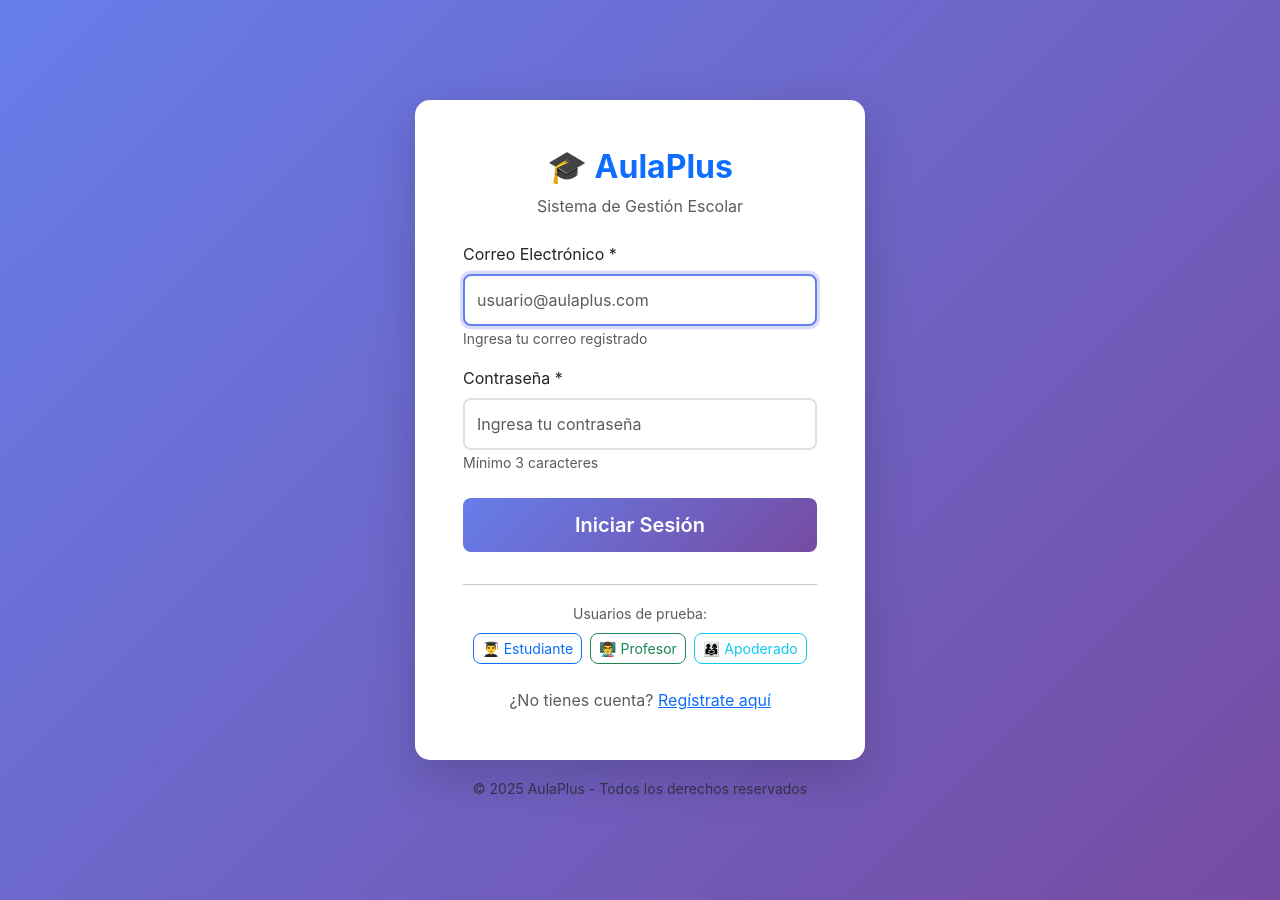
Test: Login Component - Pruebas Unitarias › valida email inválido y muestra error
Type "correo-invalido" into the field named "Correo Electrónico" at (640, 300), box [463,274,817,326]
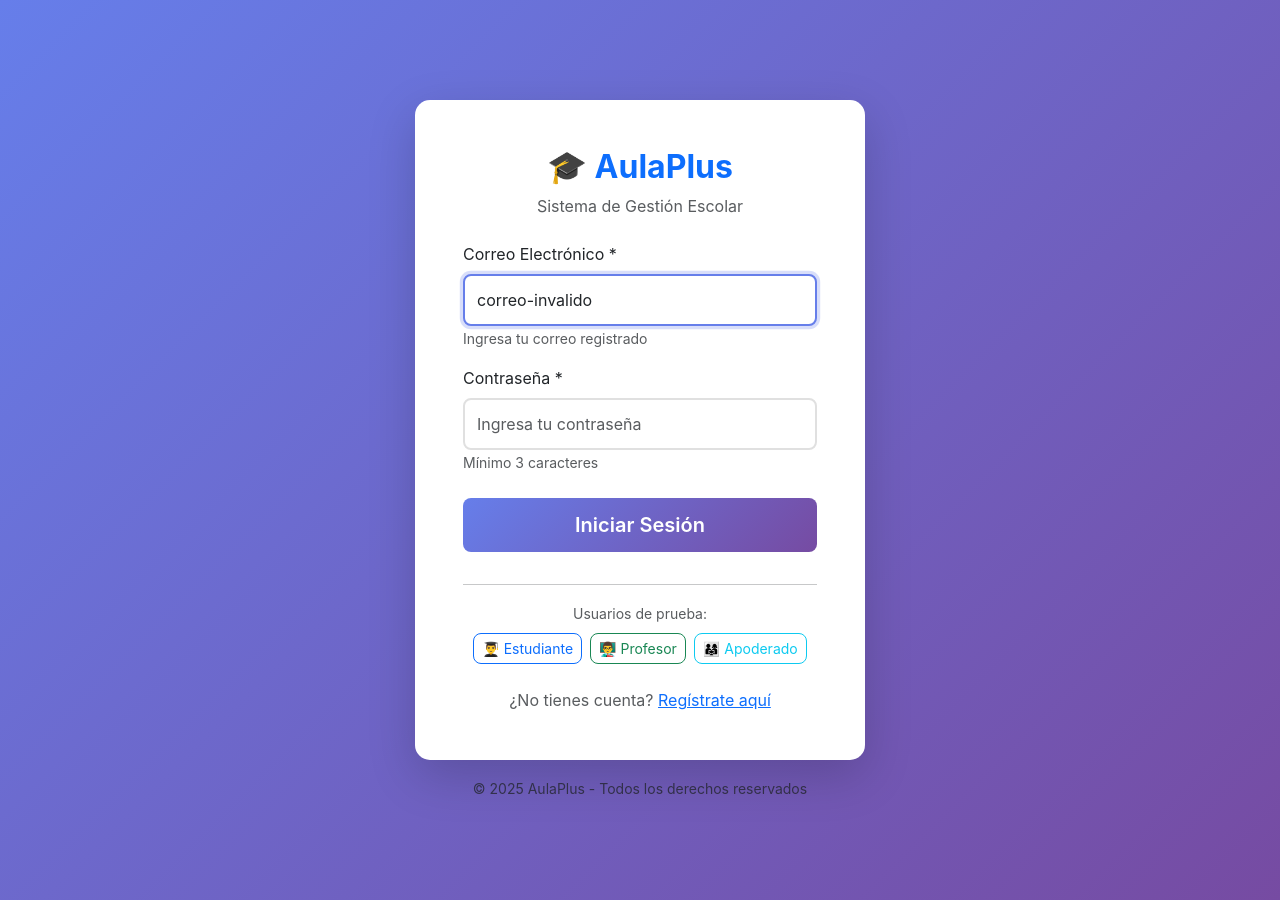
Click the password field labelled "Ingresa tu contraseña" at (640, 424), box [463,398,817,450]
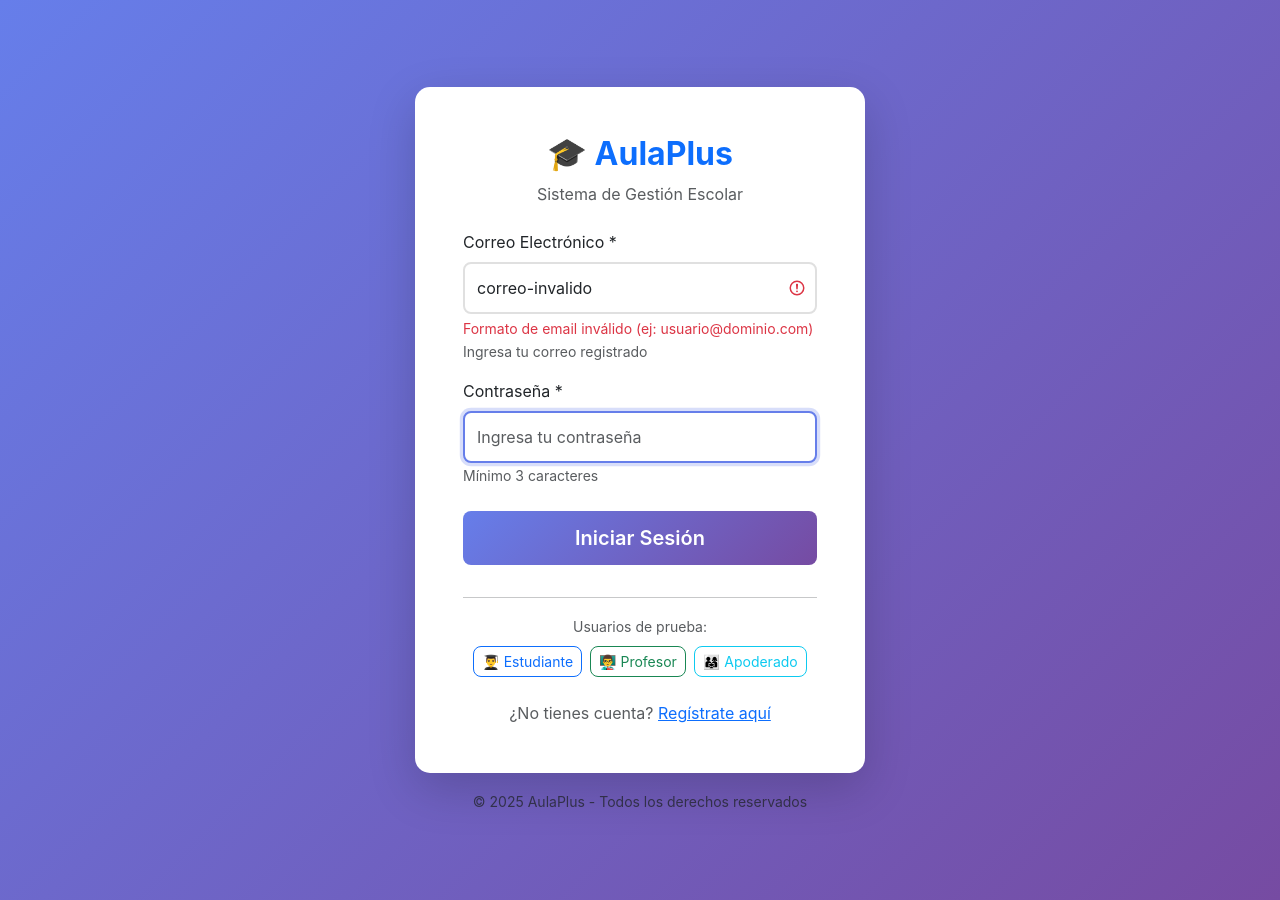
expect the text "Formato de email inválido (ej: usuario@dominio.com)" is shown: met, box [463,318,817,339]
